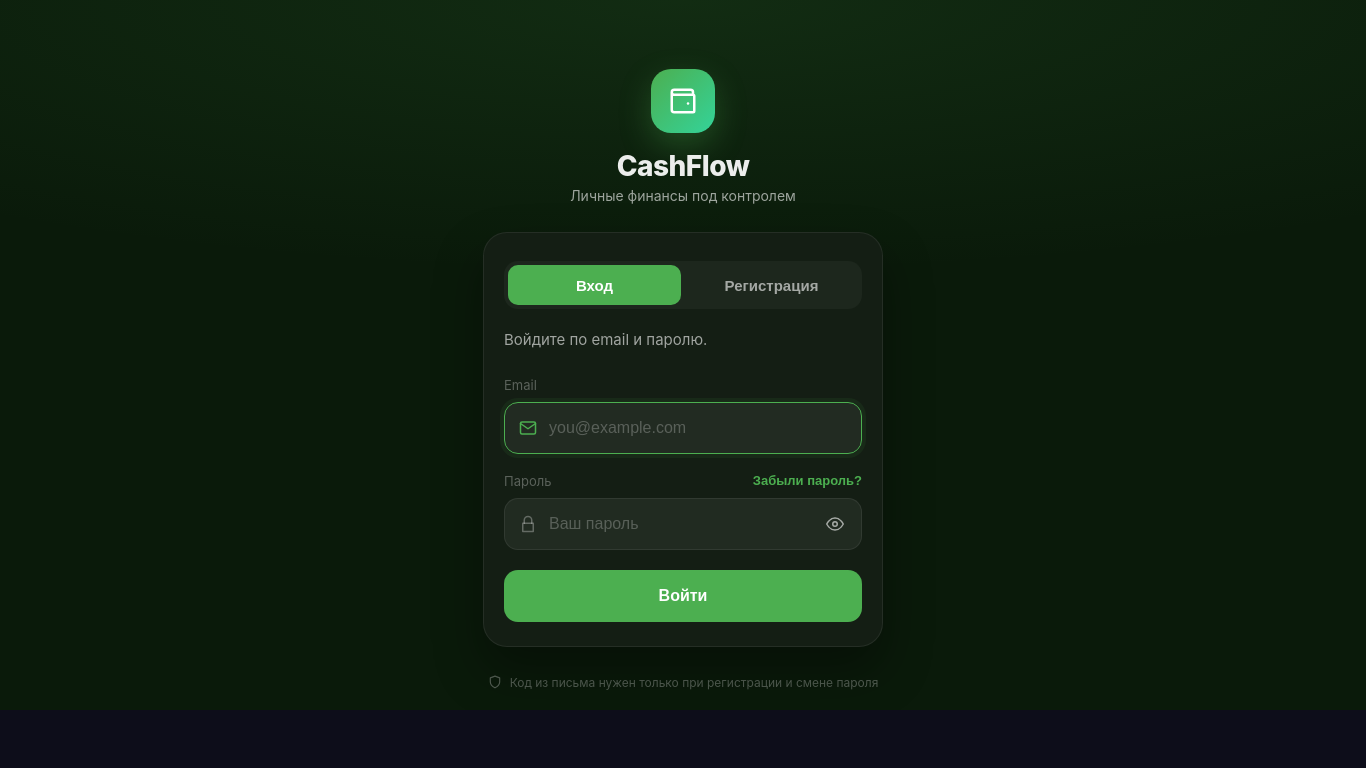
вход: неверный пароль — понятная ошибка, «Забыли пароль?» под рукой
Type "me@mail.kz" into the field labelled "Email" at (697, 428), box [547,403,847,453]
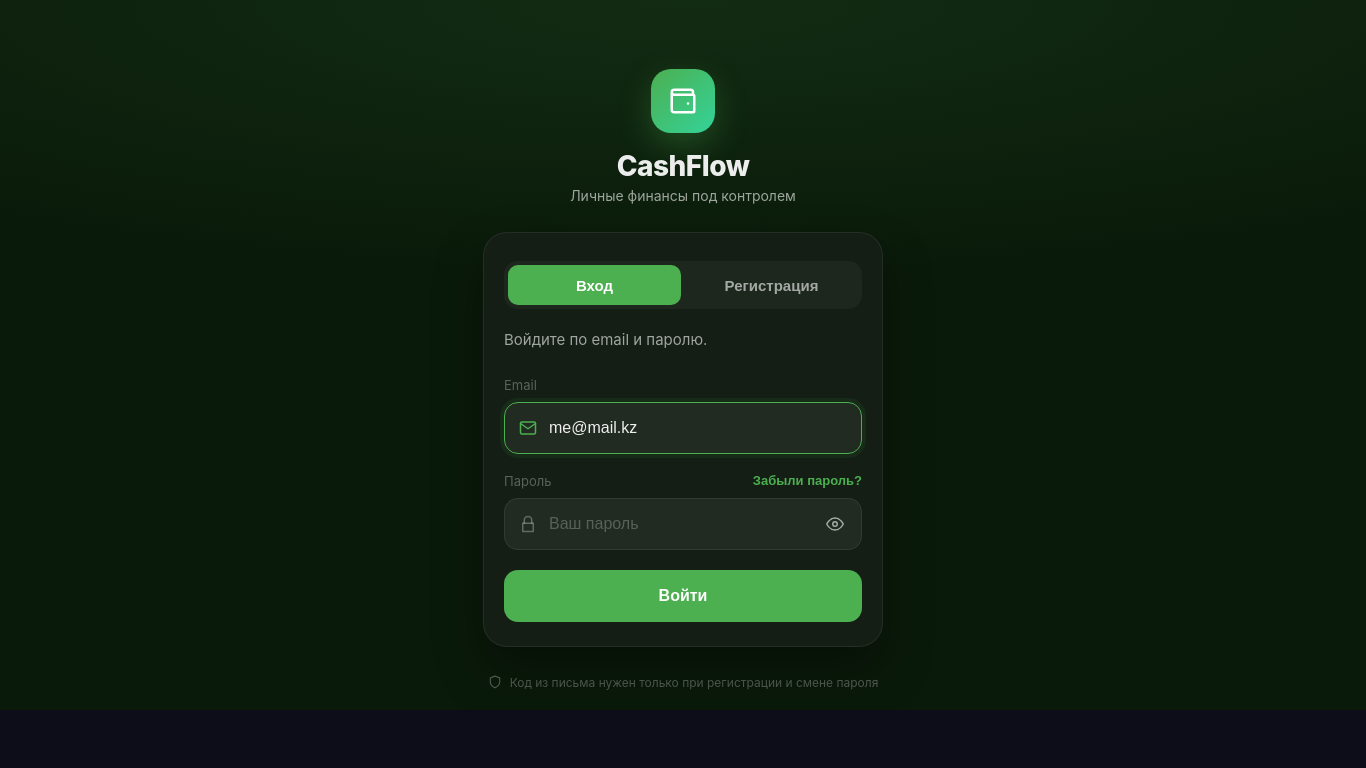
Type "wrong" into the password field labelled "Пароль" at (675, 524), box [547,499,803,549]
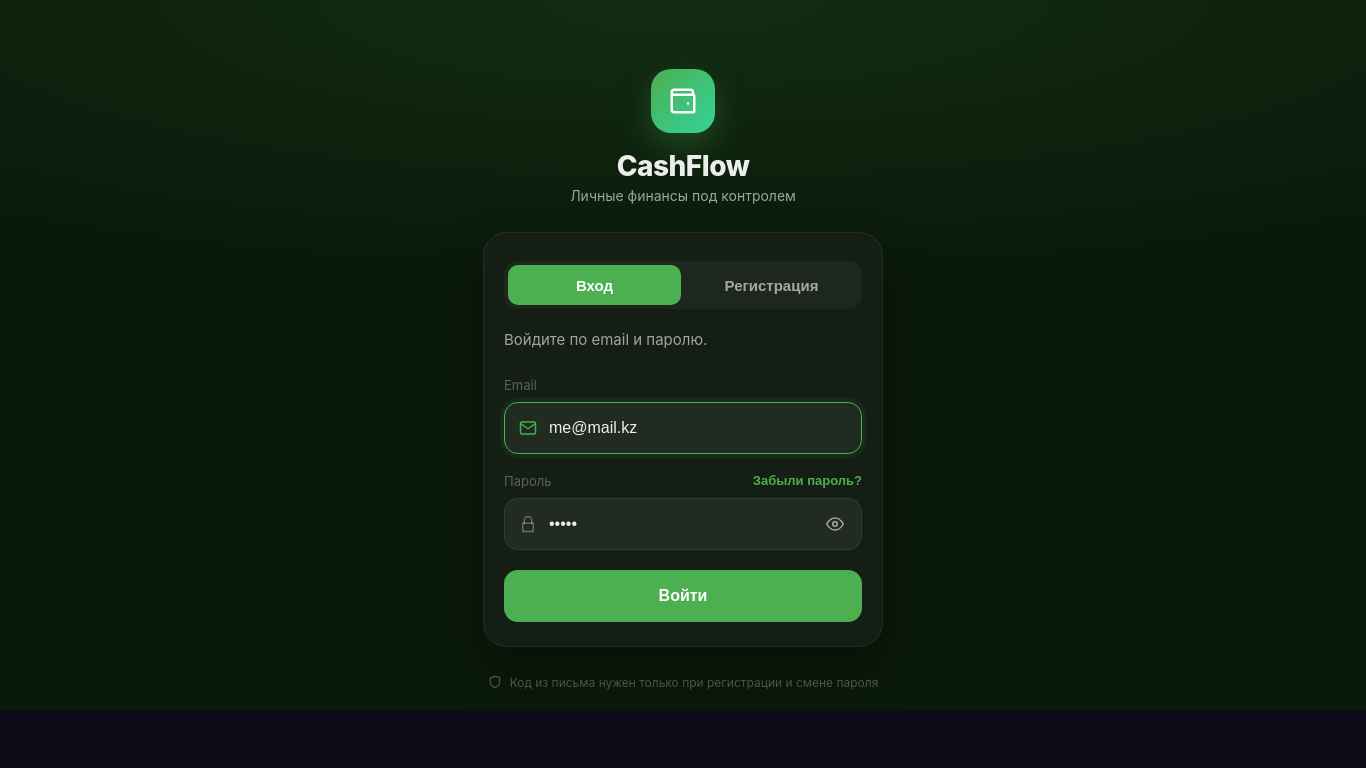
Click the button "Войти" at (683, 596), box [504,570,862,622]
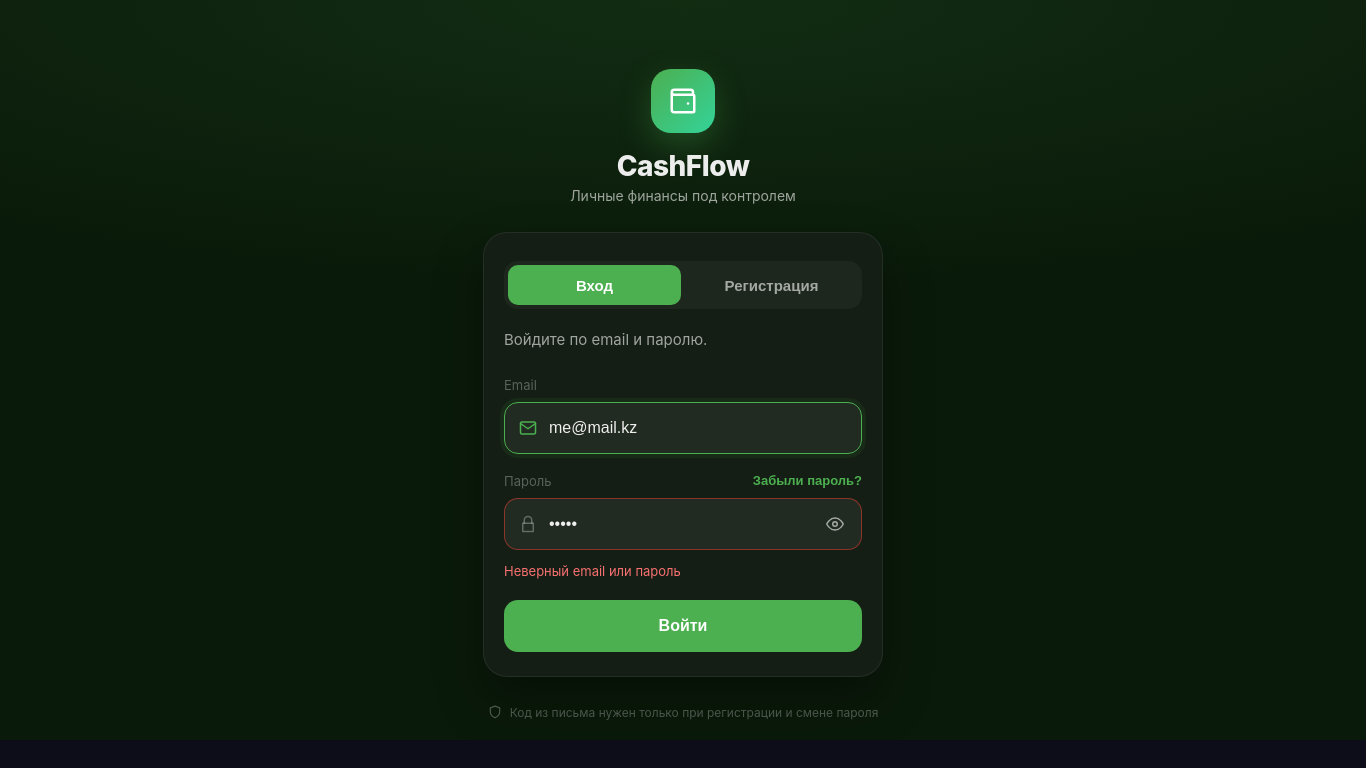
Check: the button "Забыли пароль?" is shown, box [753,471,862,490]
Check: the message reads "Неверный email или пароль", box [504,563,681,579]
